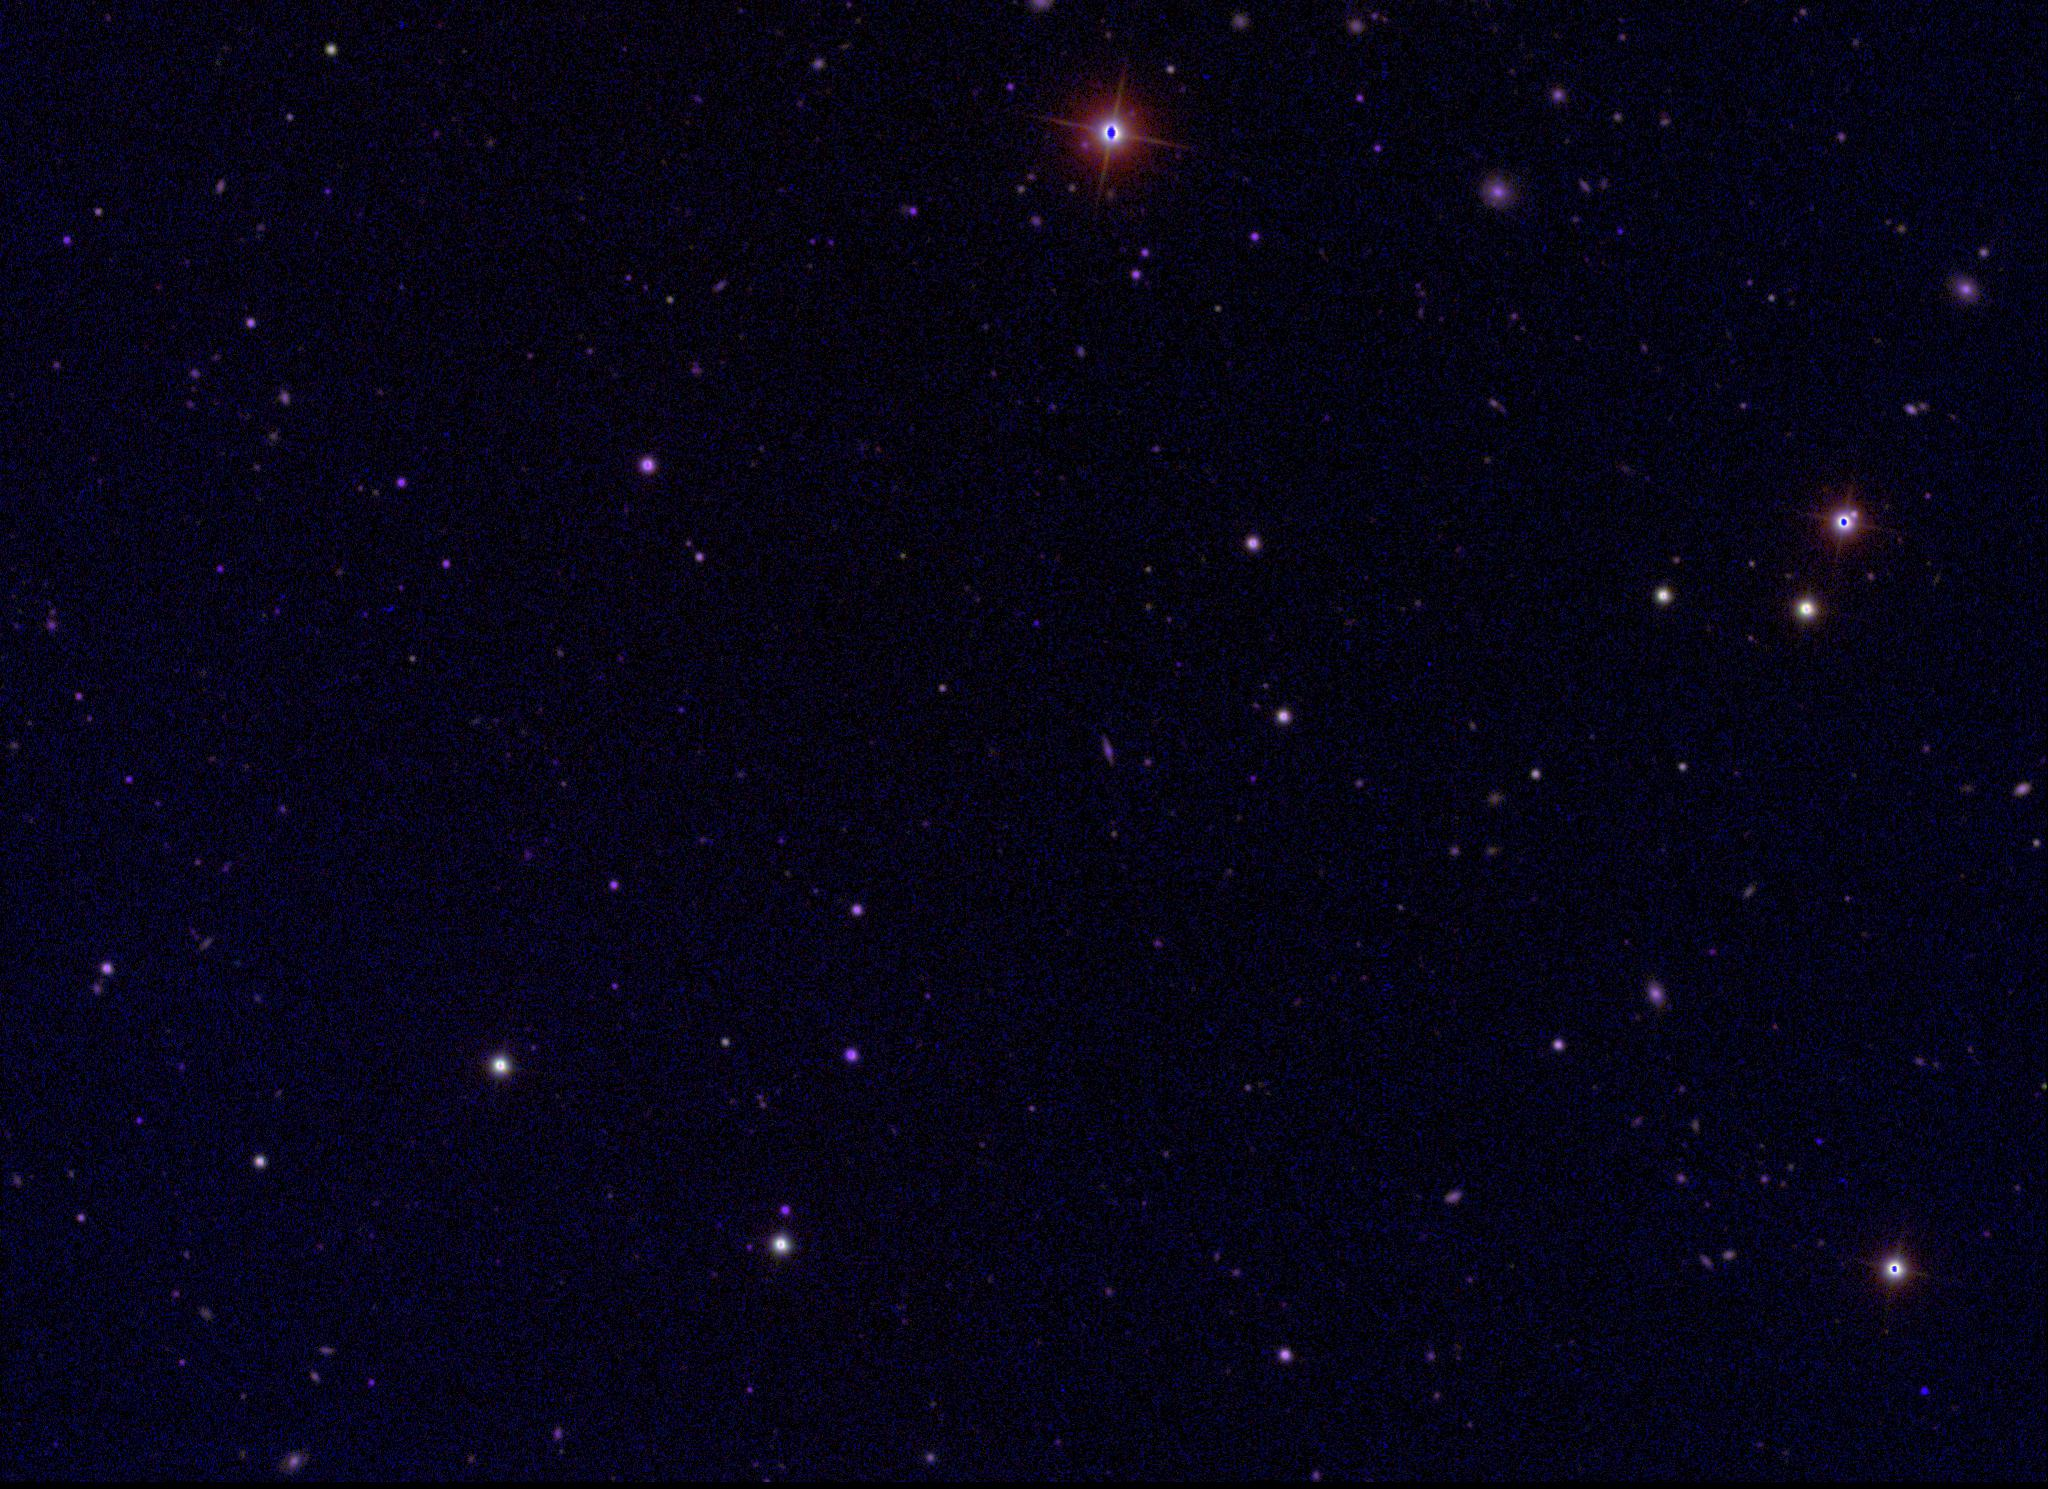L: (1919, 1382, 1934, 1397)
